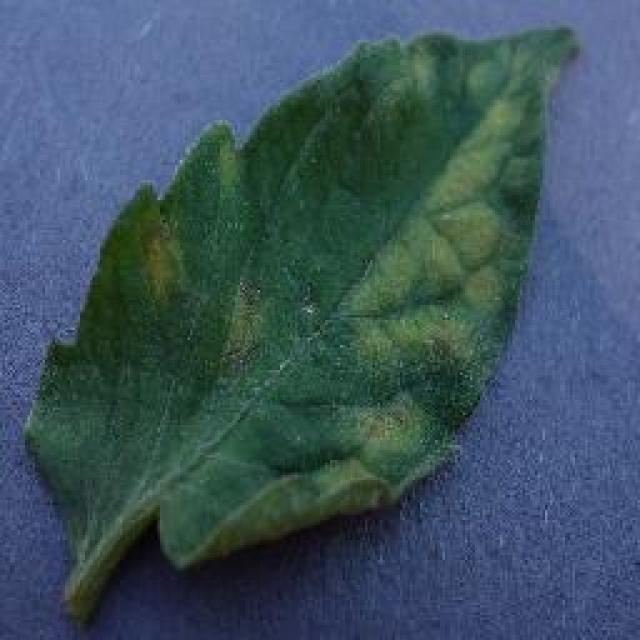Tomato___Leaf_Mold: (25, 28, 575, 618)
